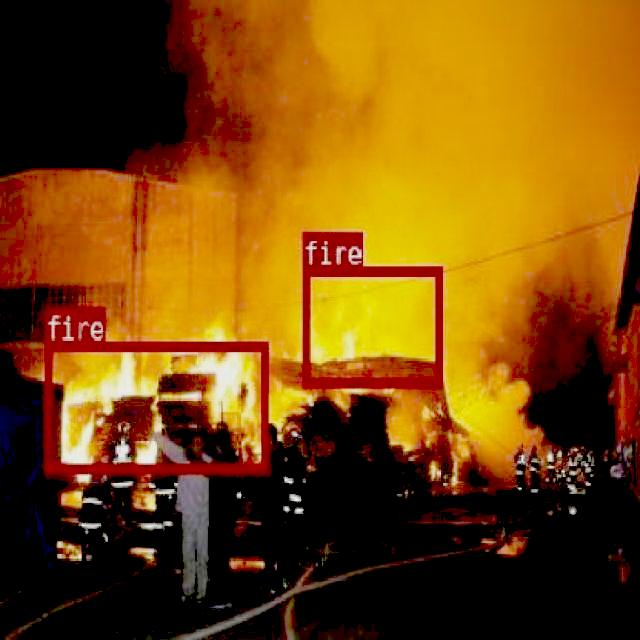fire: (44, 341, 267, 472), (302, 266, 442, 386)
